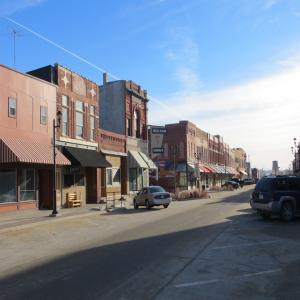Vehicle-registration-plate: (260, 195, 264, 200)
